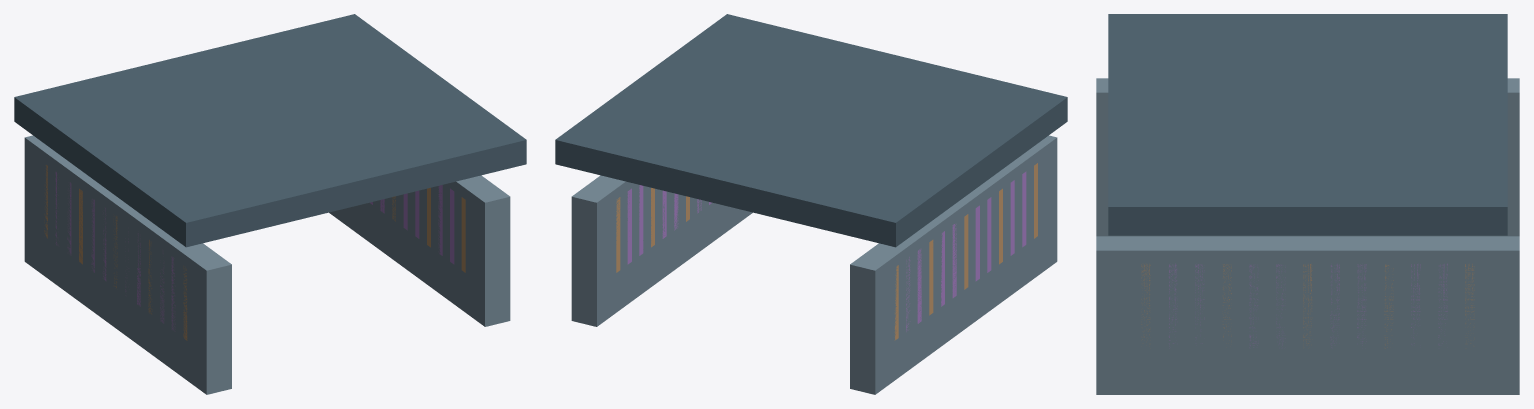
The model's file is 20_L75_WaferChargeNeutralizationModule.glb.
3 views of the same model, side by side, from view 1: azimuth 30°, elevation 25°; view 2: azimuth 150°, elevation 25°; view 3: azimuth 270°, elevation 25° (orthographic). The views are drawn at different scales.
Visible parts, largest first — view 1: WaferChargeNeutralizationModule_Node_0028, WaferChargeNeutralizationModule_Node_0000, WaferChargeNeutralizationModule_Node_0014; view 2: WaferChargeNeutralizationModule_Node_0028, WaferChargeNeutralizationModule_Node_0000, WaferChargeNeutralizationModule_Node_0014; view 3: WaferChargeNeutralizationModule_Node_0028, WaferChargeNeutralizationModule_Node_0014, WaferChargeNeutralizationModule_Node_0000.
Part boxes in pixels (x1,y1,x2,y2): WaferChargeNeutralizationModule_Node_0028: (14,14,526,247); WaferChargeNeutralizationModule_Node_0000: (24,135,231,394); WaferChargeNeutralizationModule_Node_0014: (329,175,510,326); WaferChargeNeutralizationModule_Node_0028: (555,14,1067,247); WaferChargeNeutralizationModule_Node_0000: (850,135,1057,394); WaferChargeNeutralizationModule_Node_0014: (571,175,752,326); WaferChargeNeutralizationModule_Node_0028: (1108,14,1507,235); WaferChargeNeutralizationModule_Node_0014: (1096,236,1519,394); WaferChargeNeutralizationModule_Node_0000: (1096,78,1519,236).
Bounding box in the file's own units: 1.75 × 0.845 × 1.62.
